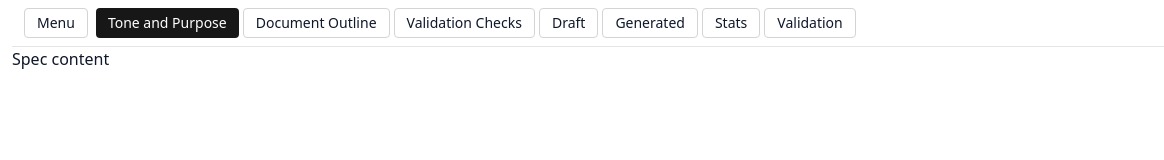
Test case: MobileWorkspaceLayout › Generated tab swaps in the generated-draft pane
Click the tab "Generated" at (650, 23), box [602,8,698,38]
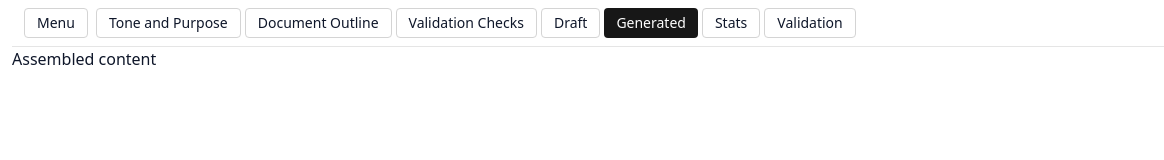
Now the text "Assembled content" is shown, box [12,47,156,71]
